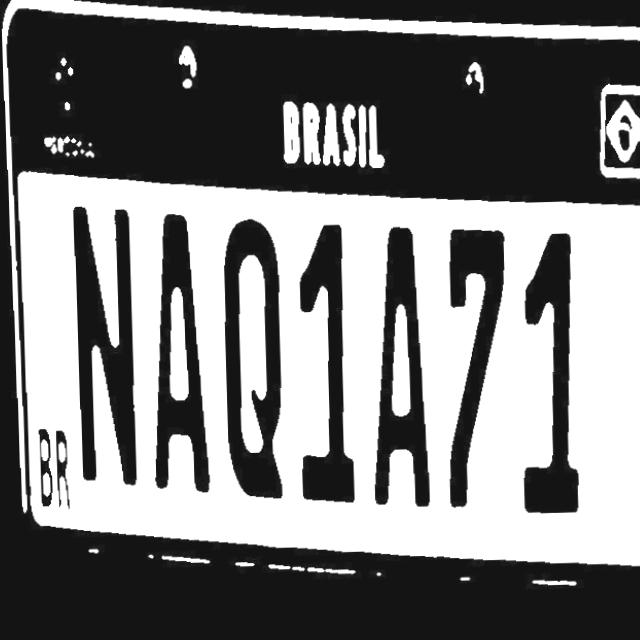1: (512, 227, 584, 535), (289, 221, 355, 507)
7: (440, 220, 515, 520)
a: (134, 206, 209, 502), (363, 222, 437, 522)
n: (55, 192, 133, 494)
q: (215, 214, 285, 503)
